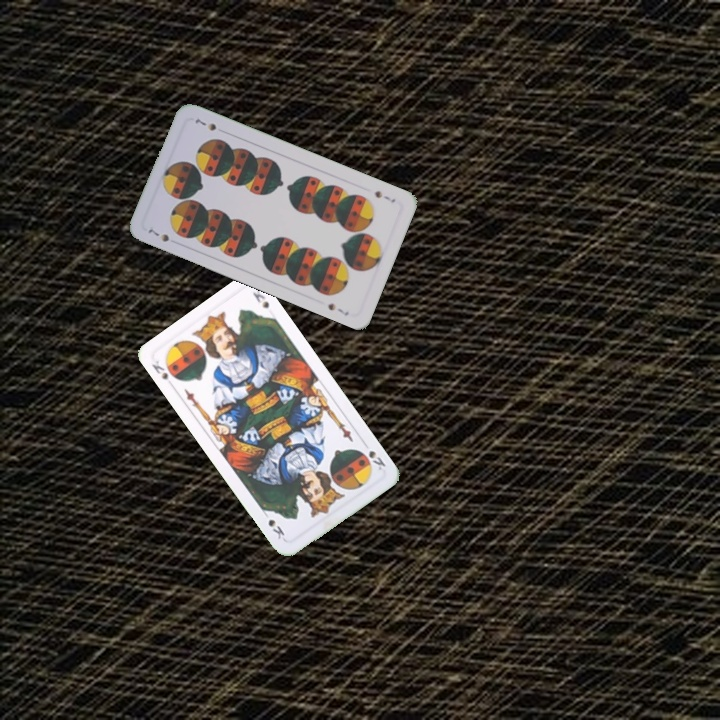S7: (144, 225, 172, 245), (371, 186, 398, 205)
SK: (148, 356, 177, 390), (364, 446, 388, 473)
